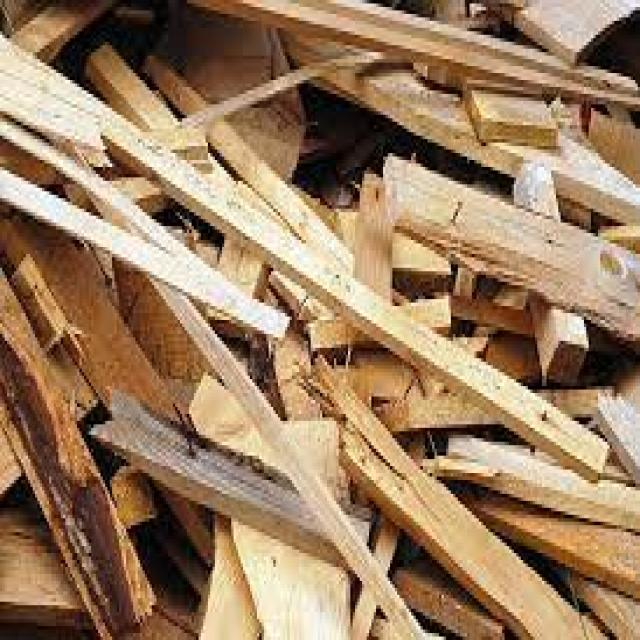green waste: (2, 5, 637, 638)
